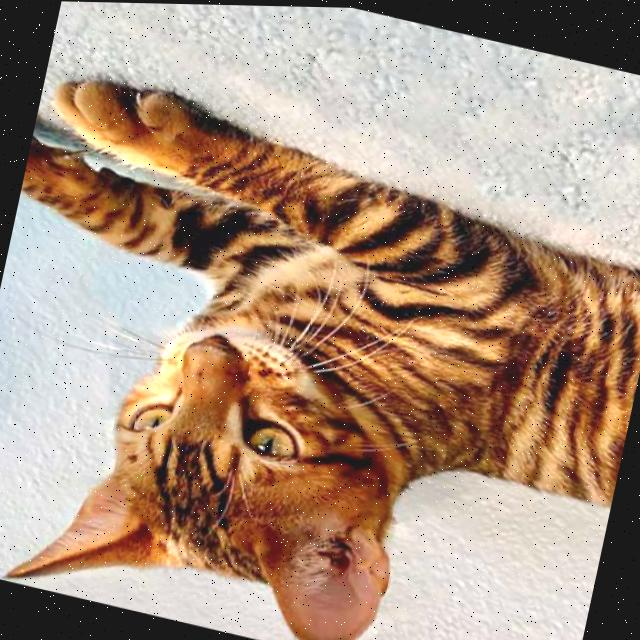Toyger: (0, 59, 640, 640)
